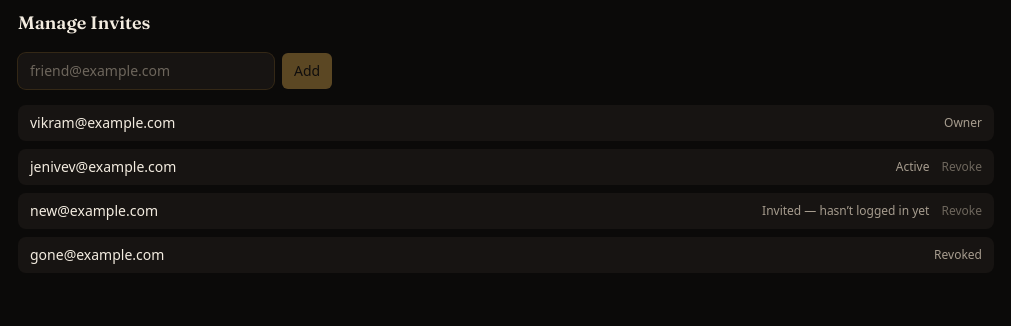
Test: ManageInvites › shows a restored message when Add targets a revoked account
Expected: the text "vikram@example.com" is shown, [30,113,175,133]
In the field named "Email to invite": (146, 71) [18,53,274,89], type "gone@example.com"
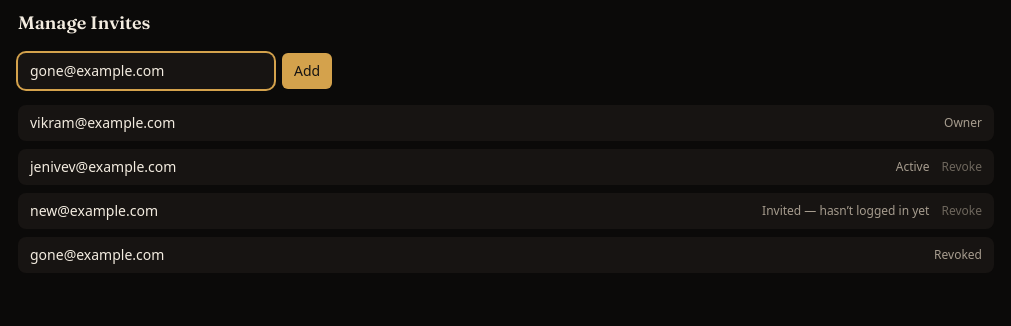
Click the button "Add": (307, 71) [282,53,332,89]
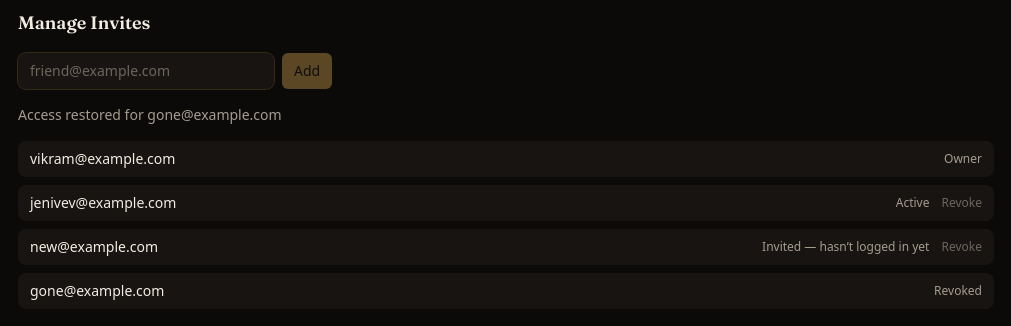
Expected: the text "Access restored for gone@example.com" is shown, [18,105,282,124]
